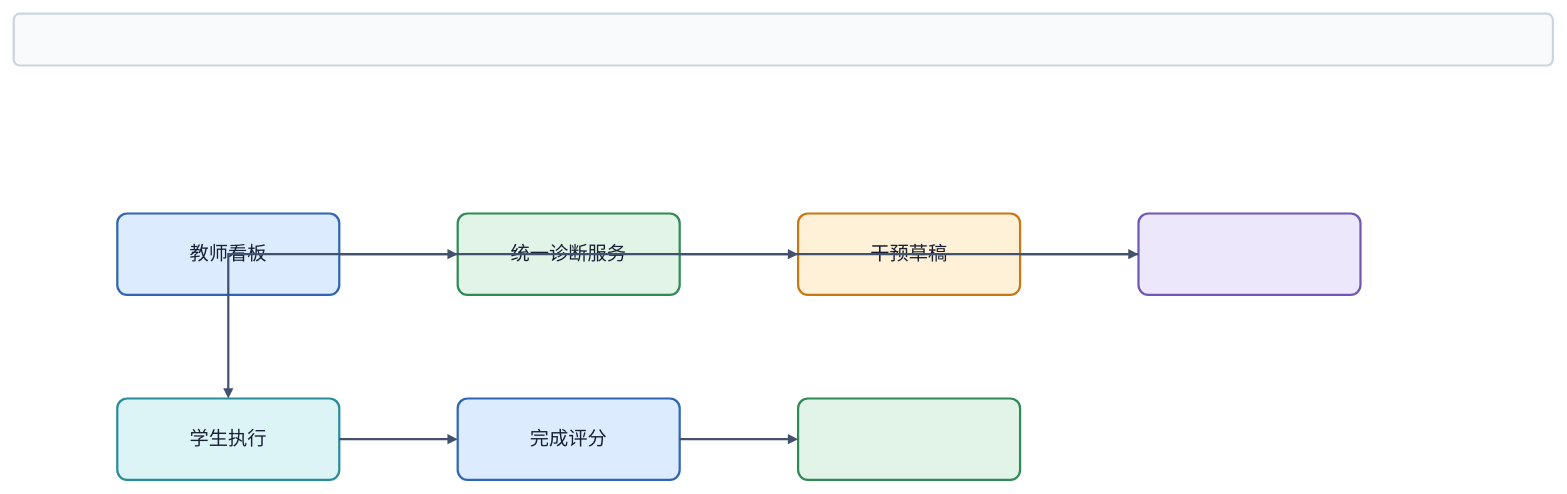
The diagram is 1567 pixels wide and 494 high, and some of its shapes have lost their labels. Each missing label, with the box of its shape:
图 7 教师看板、诊断证据与干预任务包闭环: (12, 12, 1554, 66)
教师审核下发: (1137, 212, 1361, 296)
画像看板回流: (797, 397, 1021, 481)
